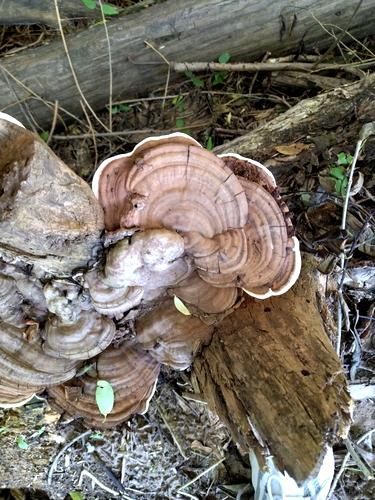Ganoderma - Fruit Body: (85, 128, 306, 302), (42, 346, 166, 433)
